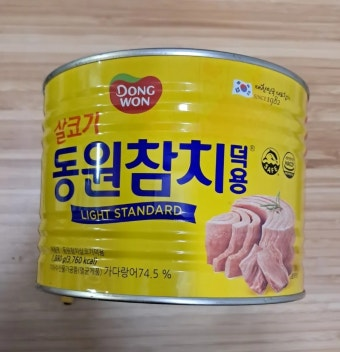paper: (36, 47, 311, 311)
